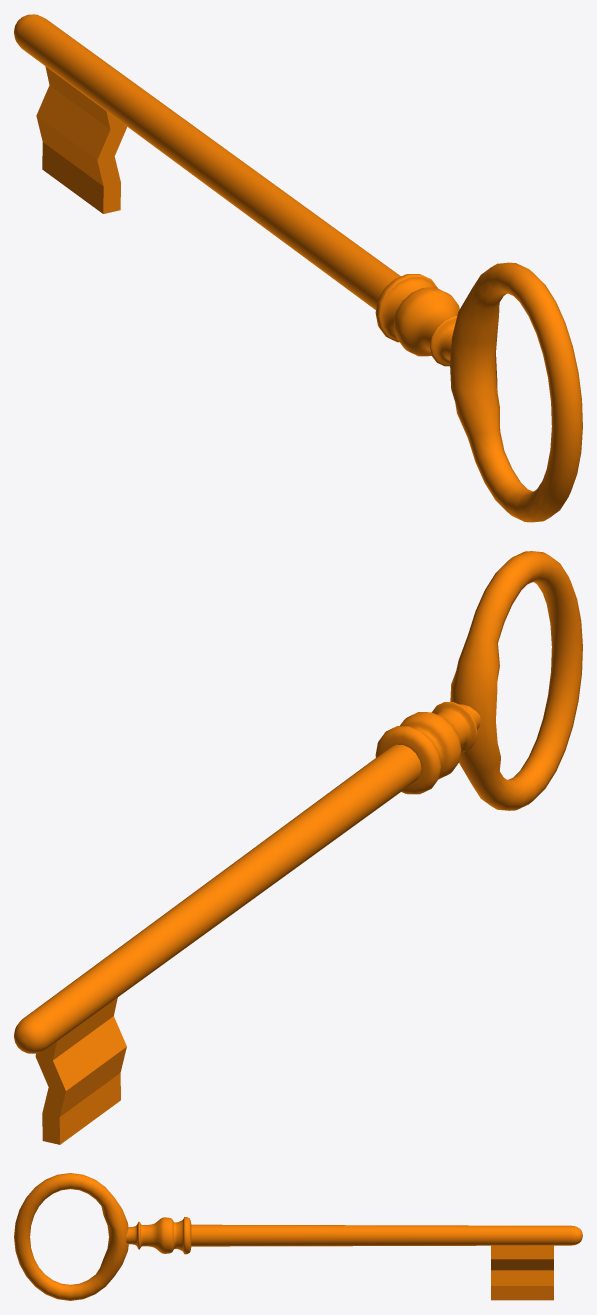
The model's file is key.obj.
The picture shows the model from 3 angles, top to bottom: view 1: azimuth 30°, elevation 25°; view 2: azimuth 150°, elevation 25°; view 3: azimuth 270°, elevation 25°; orthographic projection. The views are drawn at different scales.
Visible parts, largest first — view 1: Ellipse01; view 2: Ellipse01; view 3: Ellipse01.
Boxes of the visible parts, bbox=[...] form: Ellipse01: bbox=[14, 14, 582, 522]; Ellipse01: bbox=[14, 551, 582, 1144]; Ellipse01: bbox=[14, 1173, 582, 1300].
Size of the model in its own units: 3.25 by 12.11 by 49.05.
